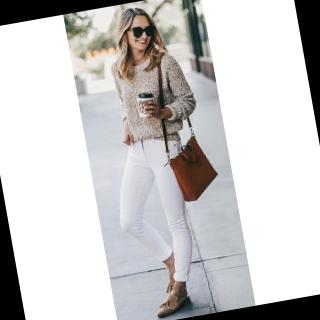loafers: (150, 273, 195, 320)
